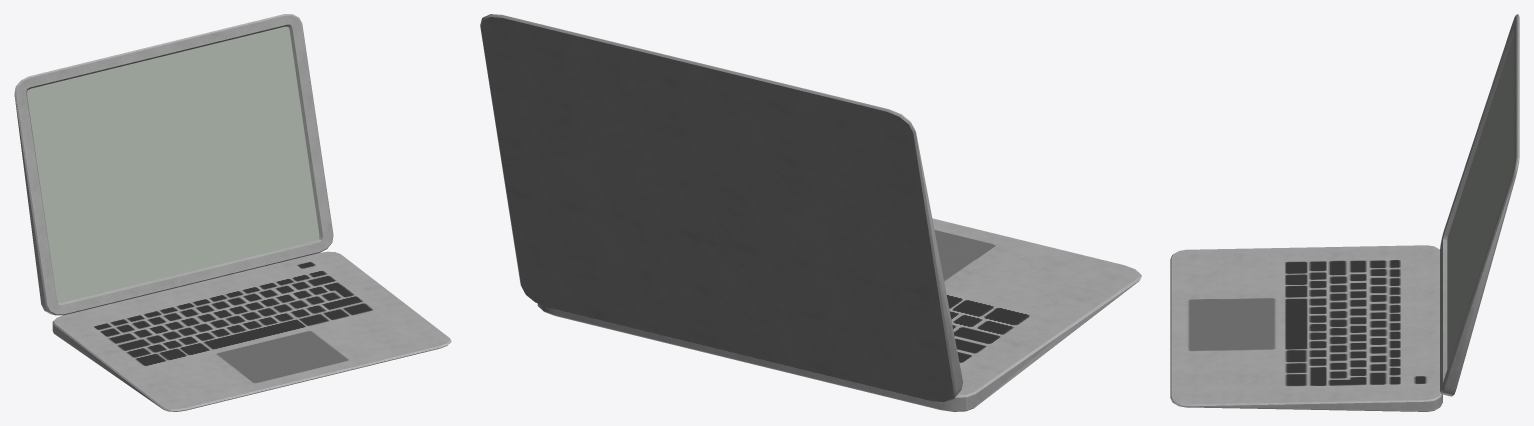
The model's file is SM_computer.glb.
3 views of the same model, side by side, from view 1: azimuth 30°, elevation 25°; view 2: azimuth 150°, elevation 25°; view 3: azimuth 270°, elevation 25° (orthographic). The views are drawn at different scales.
Parts seen in each view (by area): view 1: computer; view 2: computer; view 3: computer.
Part boxes in pixels (<box>): computer: <box>14,14,451,411</box>; computer: <box>480,14,1141,411</box>; computer: <box>1170,14,1519,411</box>.
Bounding box in the file's own units: 0.0669 × 0.0498 × 0.0634.
Materials: 1 (1 with a texture image).
